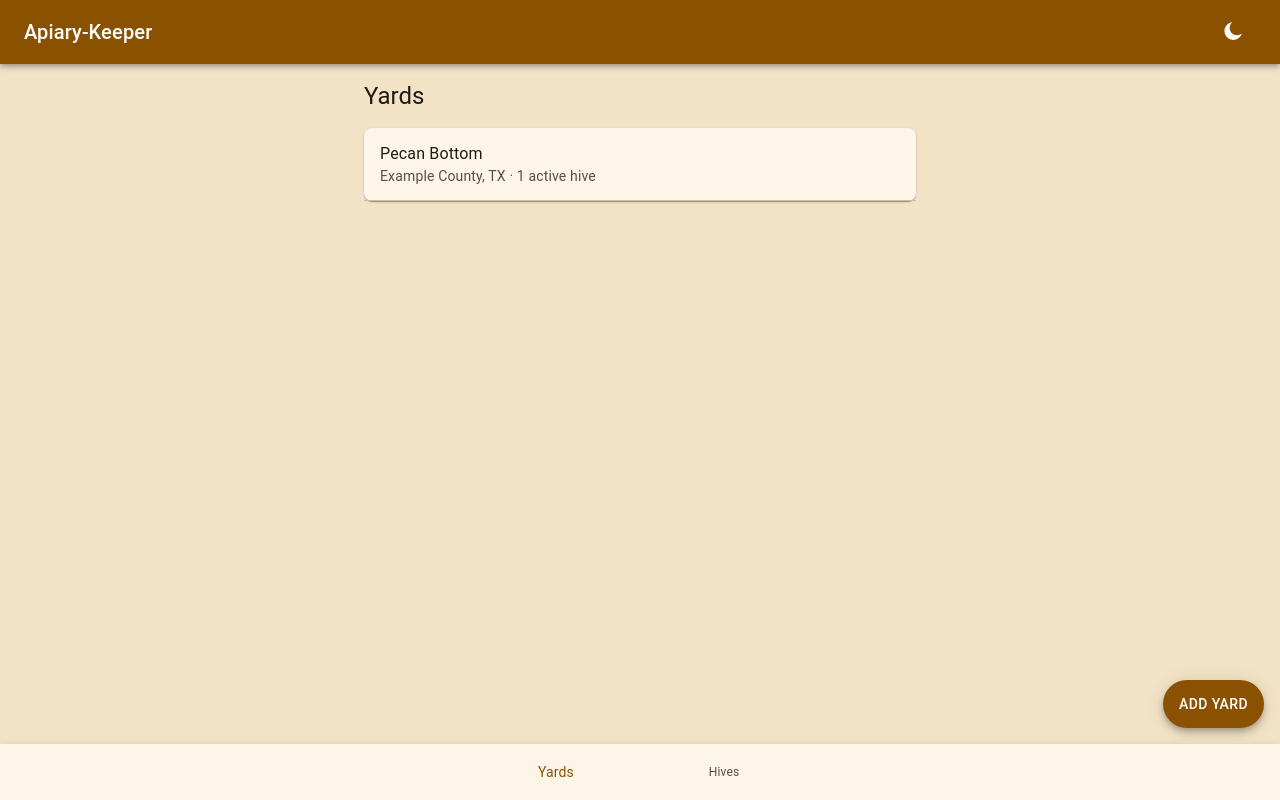
Test: App › should go to the hives list when the hives tab is tapped
Click the link "Hives".
click(724, 772)  # box [709,765,739,779]
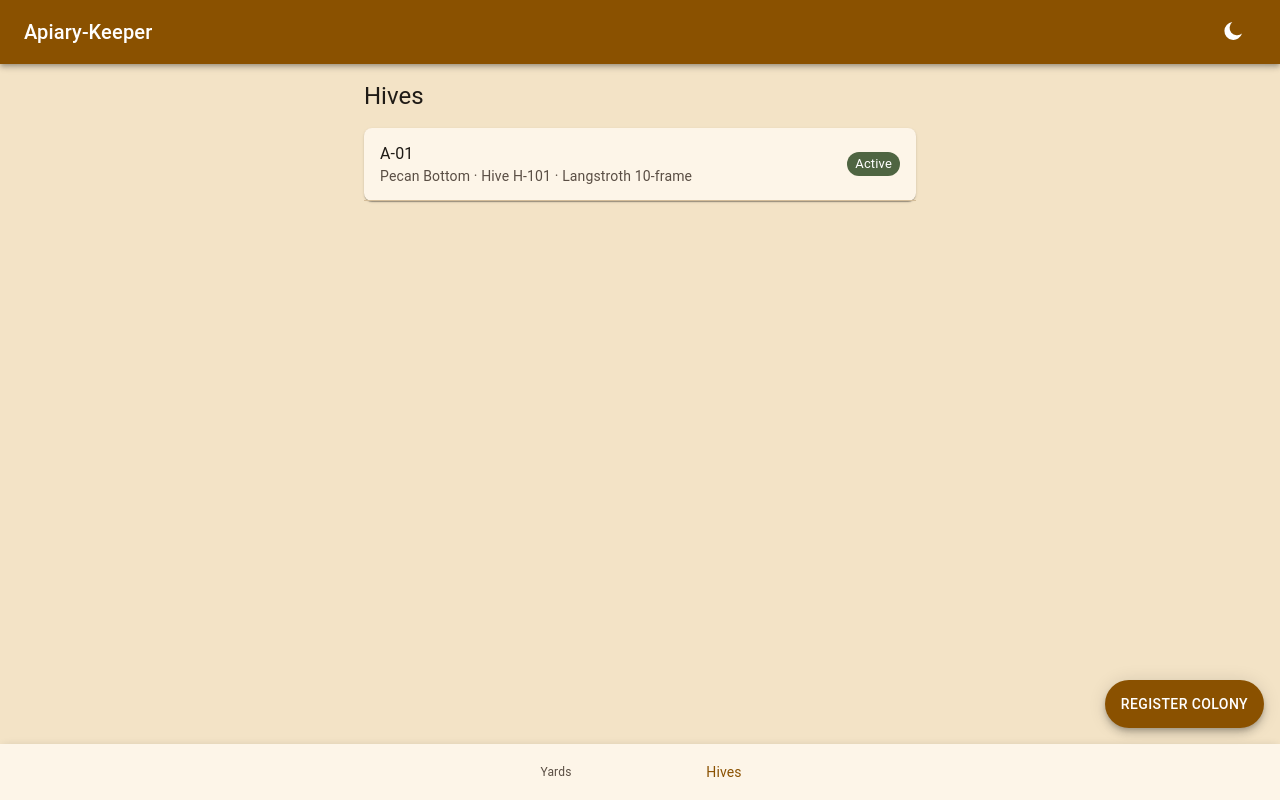
Expected: the heading "Hives" is shown, [364,80,424,112]
